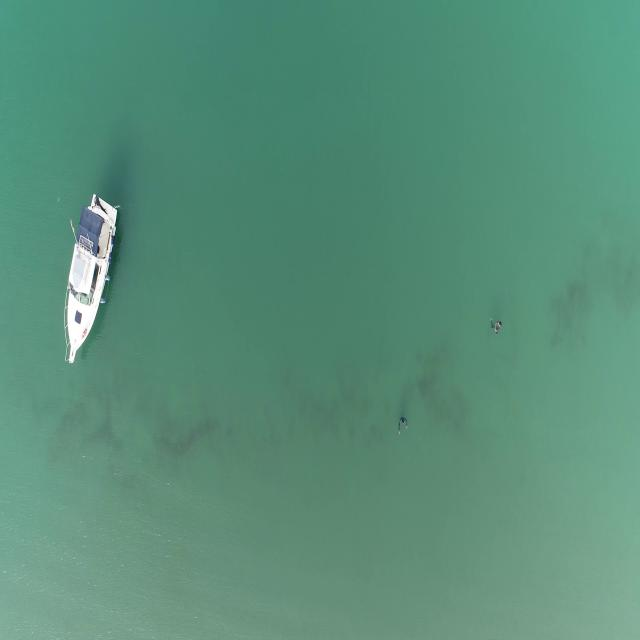boat: (60, 193, 120, 367)
person: (396, 415, 410, 438), (490, 316, 502, 338)
